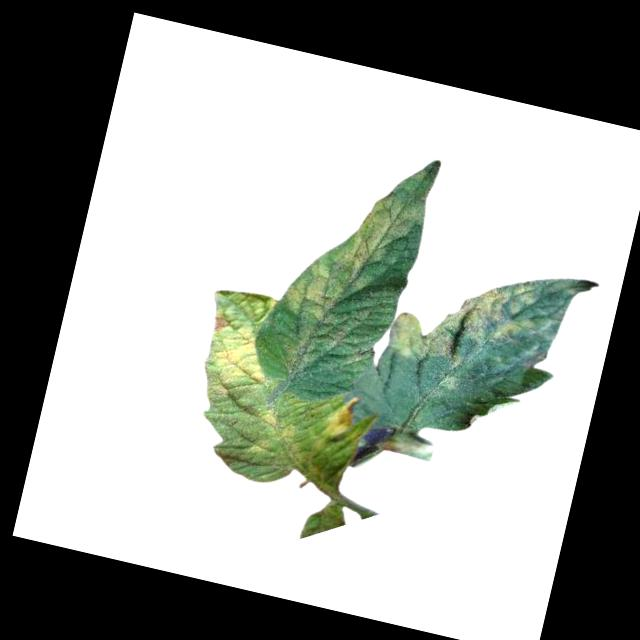Leaf_Mold: (279, 172, 423, 339), (384, 251, 545, 385), (199, 313, 281, 409), (245, 403, 305, 464), (321, 388, 364, 448)
